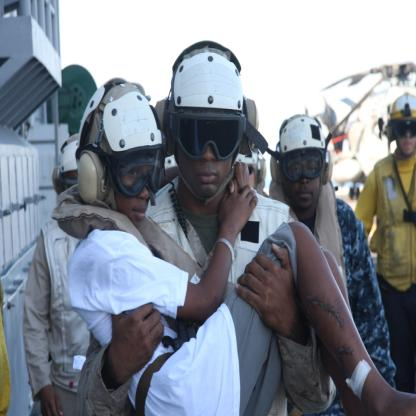Helmet: (160, 38, 260, 209)
